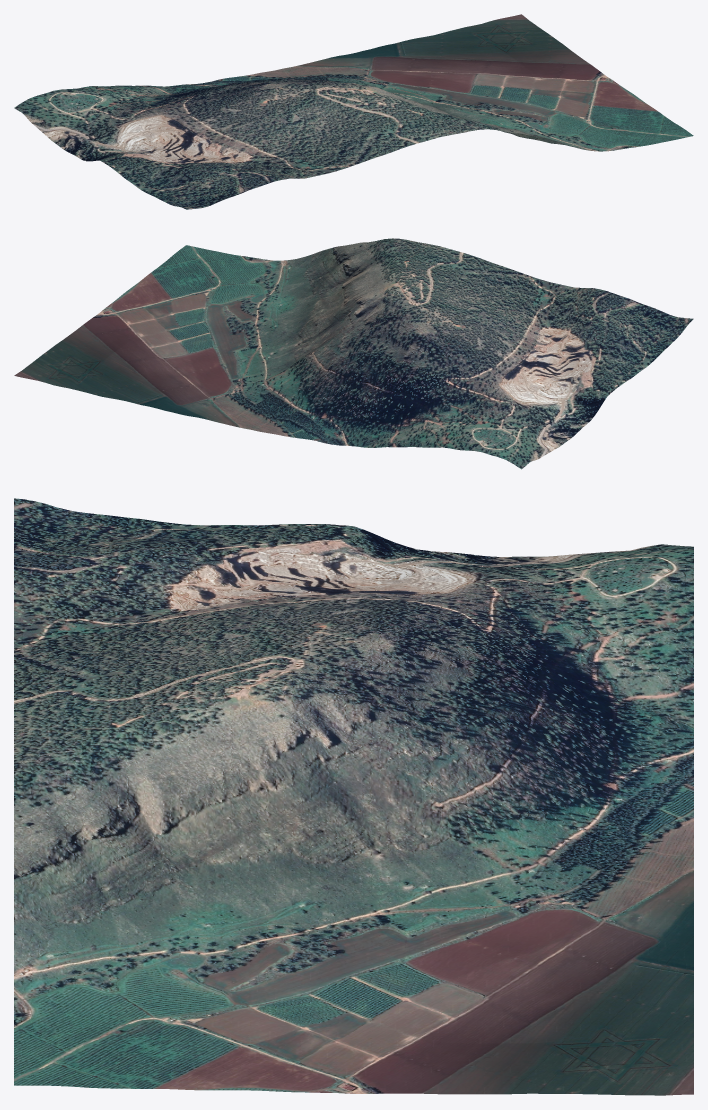
File: AinJalut.glb
3 views of the same model, one above another, from view 1: azimuth 30°, elevation 25°; view 2: azimuth 150°, elevation 25°; view 3: azimuth 270°, elevation 25° (orthographic). The views are drawn at different scales.
Parts seen in each view (by area): view 1: EXPORT_GOOGLE_SAT_WM; view 2: EXPORT_GOOGLE_SAT_WM; view 3: EXPORT_GOOGLE_SAT_WM.
Boxes of the visible parts, x1,y1,x2,y2 form: EXPORT_GOOGLE_SAT_WM: [14, 14, 693, 209]; EXPORT_GOOGLE_SAT_WM: [14, 238, 693, 469]; EXPORT_GOOGLE_SAT_WM: [14, 498, 693, 1095].
Bounding box in the file's own units: 2599 × 362 × 1529.
Materials: 1 (1 with a texture image).
